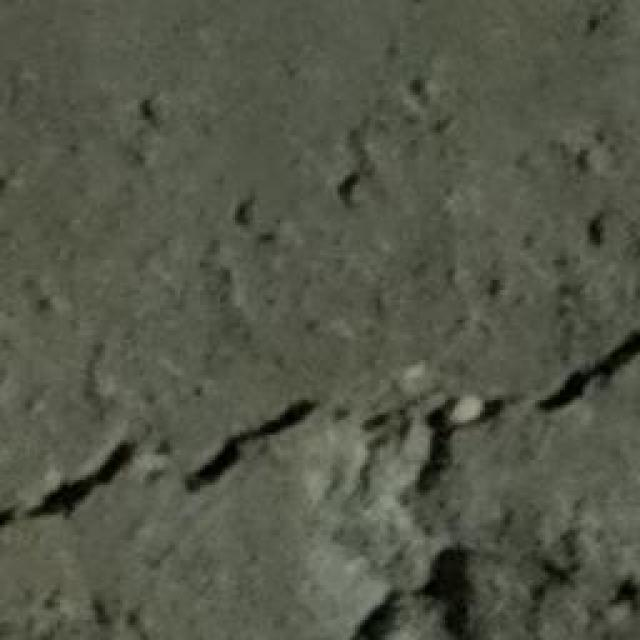Rippled: (349, 555, 640, 640)
Transverse: (24, 327, 640, 539)
